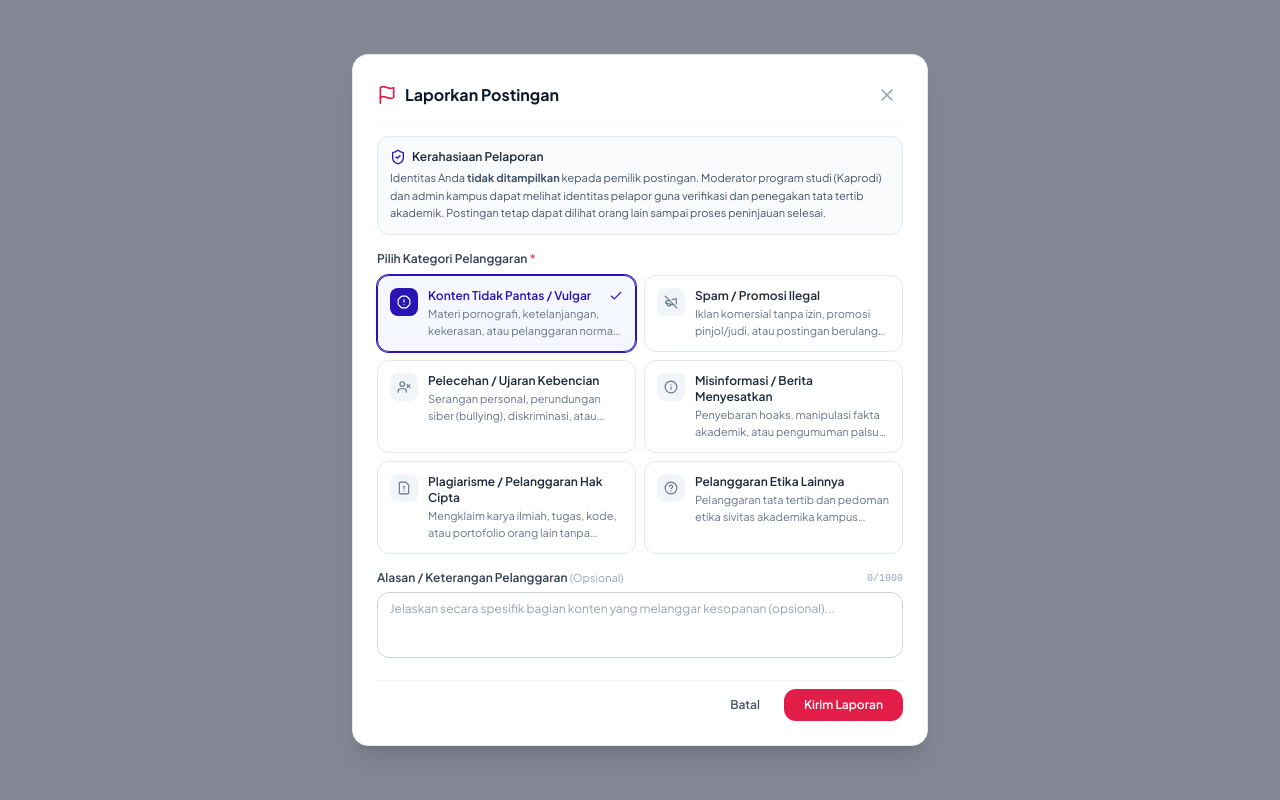
Test: ReportPostModal & TakedownPostModal Frontend Tests › enforces required reason for 'Pelanggaran Etika Lainnya' category
// Switch to Lainnya
Click the radio button labelled "Pelanggaran Etika Lainnya".
click(774, 508)  # box [644,461,903,554]
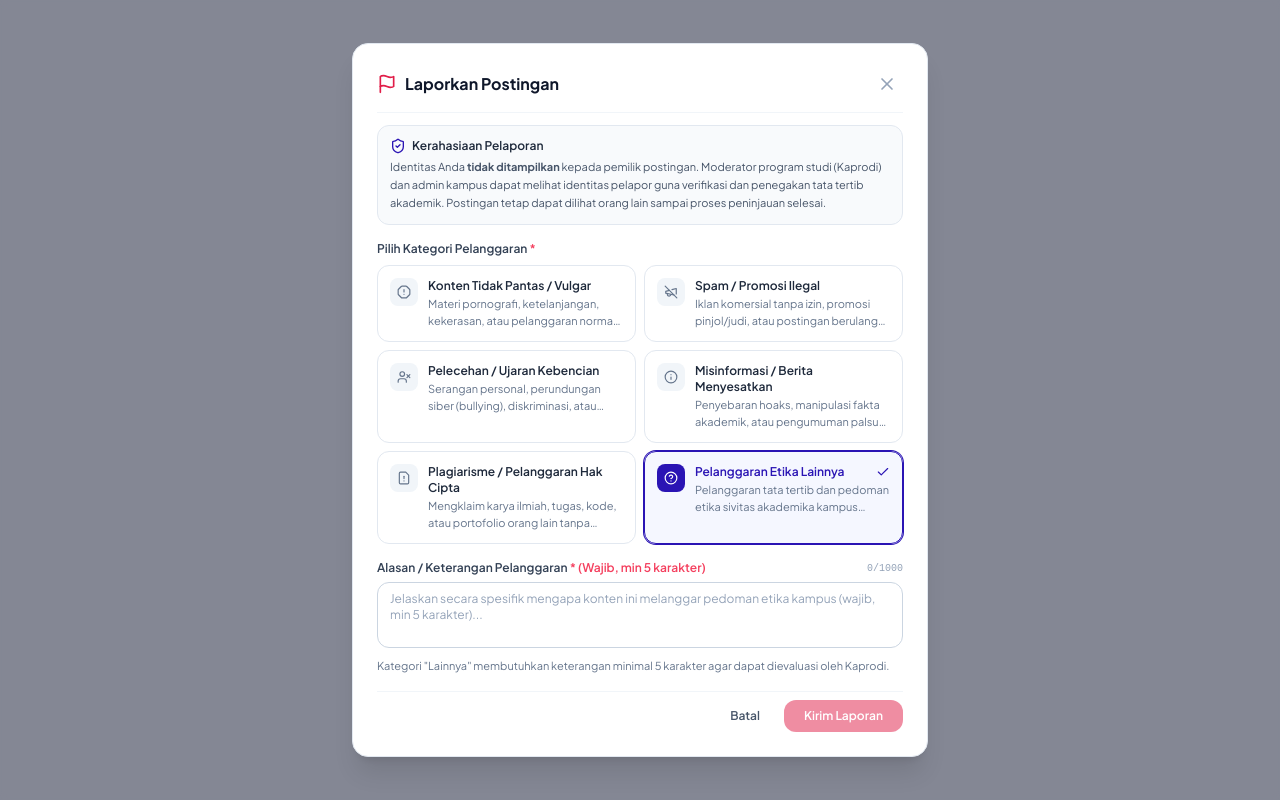
Result: the button "Kirim Laporan" is disabled at [784,700,903,732]
Replace the text in the text box with placeholder "Wajib, min 5 karakter" with "Pelanggaran aturan lab komputer" at (640, 615), box [377,582,903,648]
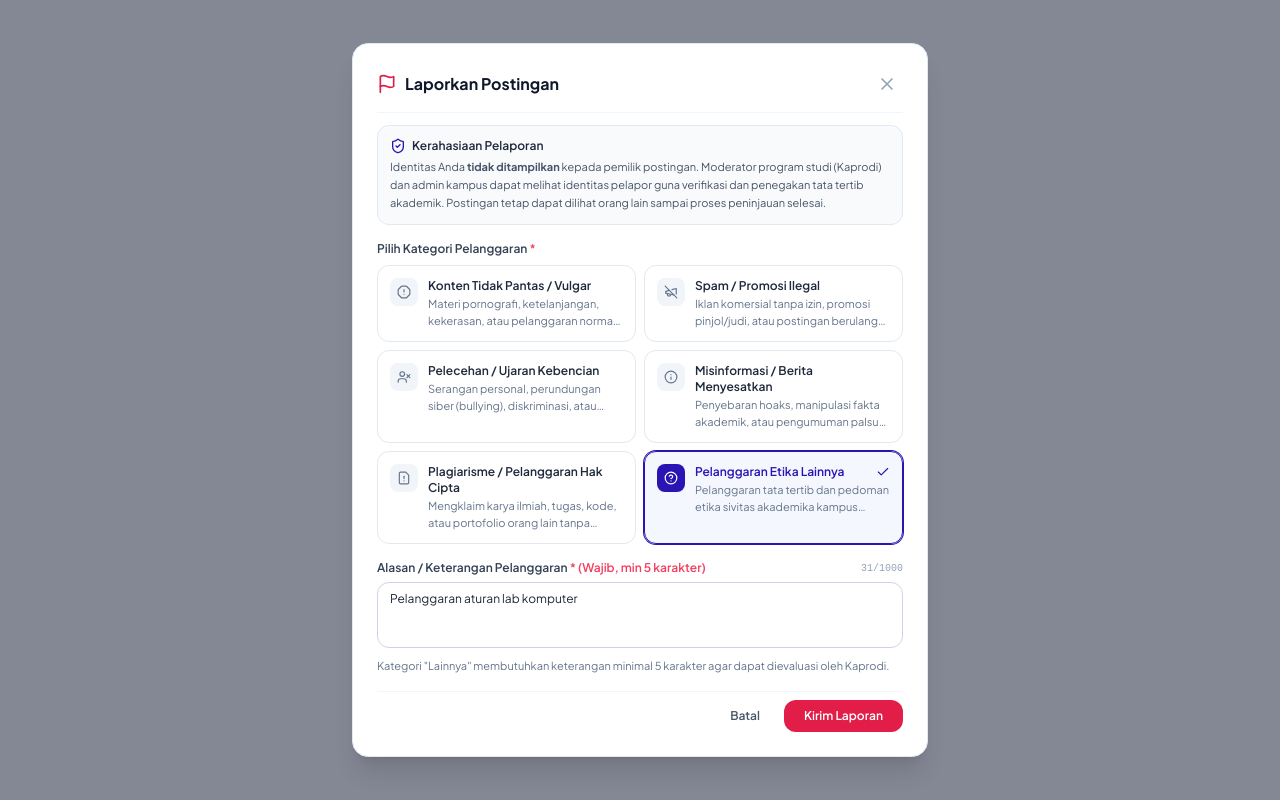
Result: the button "Kirim Laporan" is enabled at [784,700,903,732]
